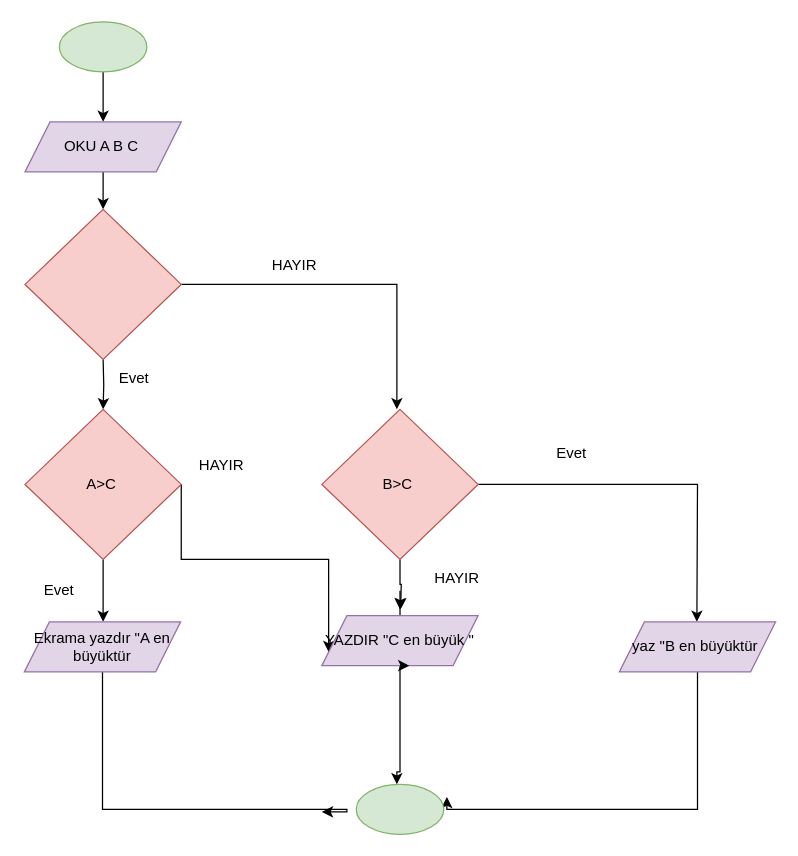
Image size: 798x856. Some labels were removed from this diagram. Here are the shapes that lost their labels. From the top down, the centre of each, then its label:
At pixel 102 46: "BASLA".
At pixel 102 283: "A>B".
At pixel 399 808: "DUR".
